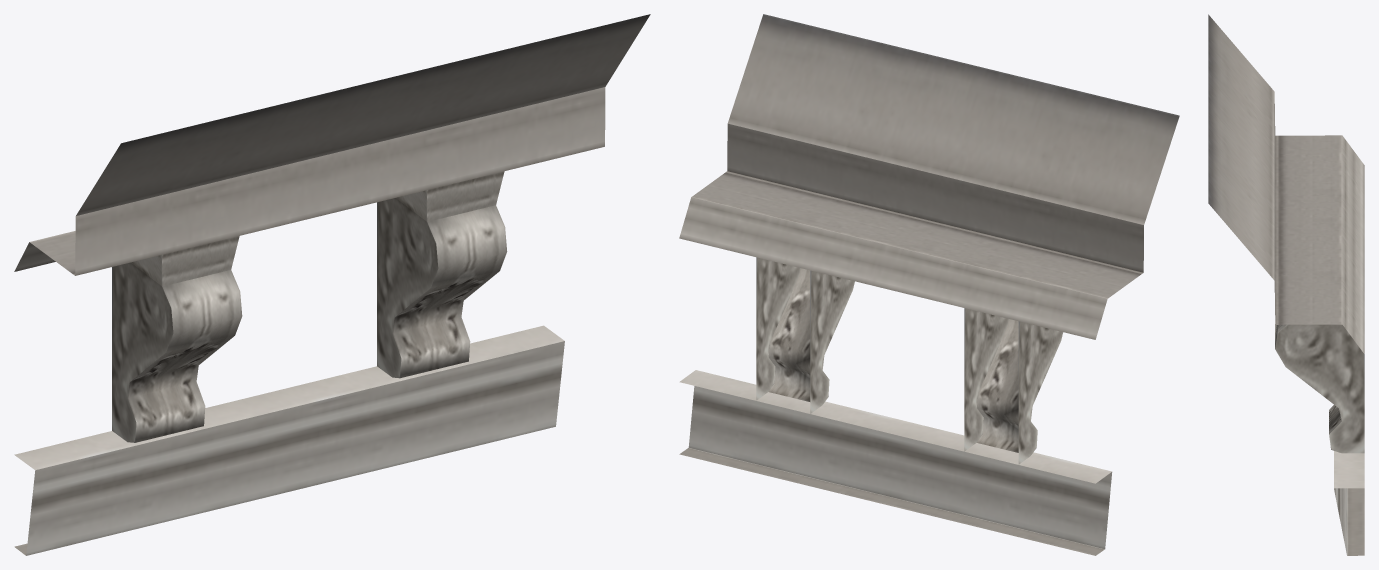
File: WallRoofline05B.fbx
3 views of the same model, side by side, from view 1: azimuth 30°, elevation 25°; view 2: azimuth 150°, elevation 25°; view 3: azimuth 270°, elevation 25° (orthographic). The views are drawn at different scales.
Parts seen in each view (by area): view 1: WallRoofline05B; view 2: WallRoofline05B; view 3: WallRoofline05B.
Part boxes in pixels (bbox=[...]): WallRoofline05B: bbox=[14, 14, 650, 555]; WallRoofline05B: bbox=[679, 14, 1179, 555]; WallRoofline05B: bbox=[1208, 14, 1364, 555].
Bounding box in the file's own units: 100 × 86.98 × 35.
